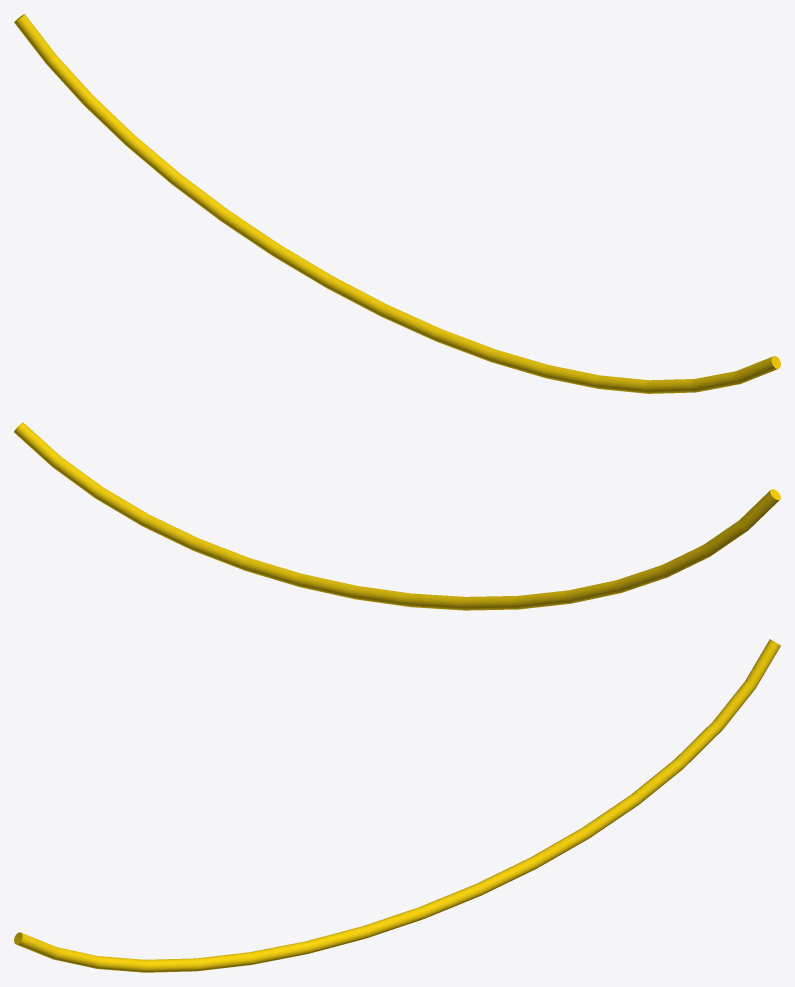
Rendered from Event_421556567_track_5.fbx.
3 renders of one model, top to bottom at view 1: azimuth 30°, elevation 25°; view 2: azimuth 210°, elevation 25°; view 3: azimuth 270°, elevation 25°, orthographic. The views are drawn at different scales.
Parts seen in each view (by area): view 1: Model; view 2: Model; view 3: Model.
Boxes of the visible parts, <box> form: Model: <box>14,14,780,393</box>; Model: <box>14,422,780,610</box>; Model: <box>14,639,780,972</box>.
Bounding box in the file's own units: 1.24 × 0.7155 × 2.37.
